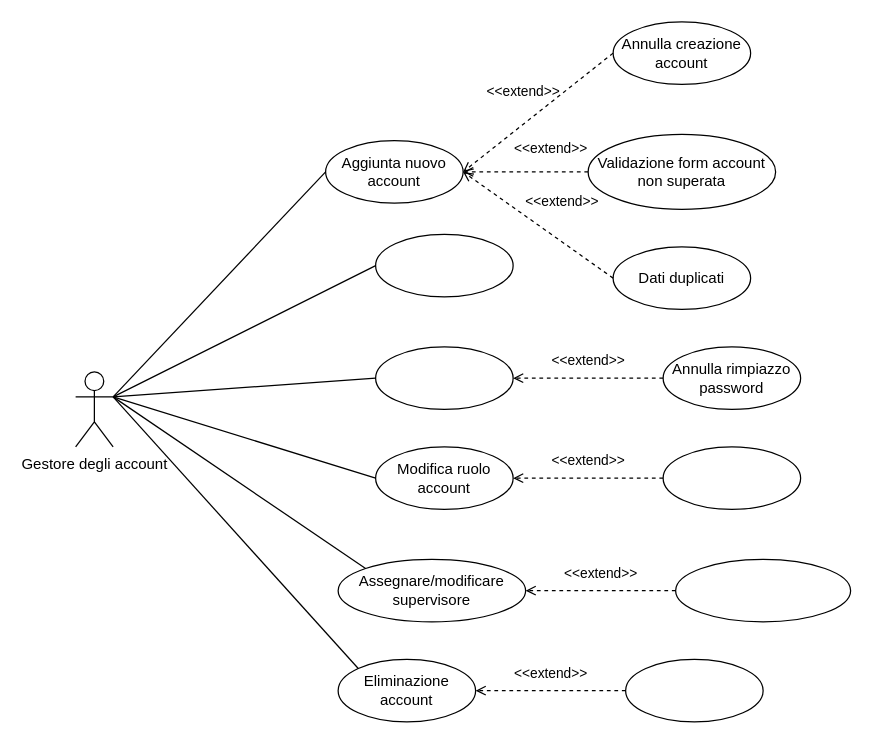
Some shapes in this 873 by 744 pixel diagram are drawn without their labels. Each missing label, with the centre of its shape:
"Annulla eliminazione account" belongs at (x=693, y=690).
"Annulla inserimento/modifica supervisore" belongs at (x=762, y=590).
"Annulla modifica ruolo" belongs at (x=731, y=477).
"Apertura scheda profilo" belongs at (x=443, y=265).
"Rimpiazza password" belongs at (x=443, y=377).
